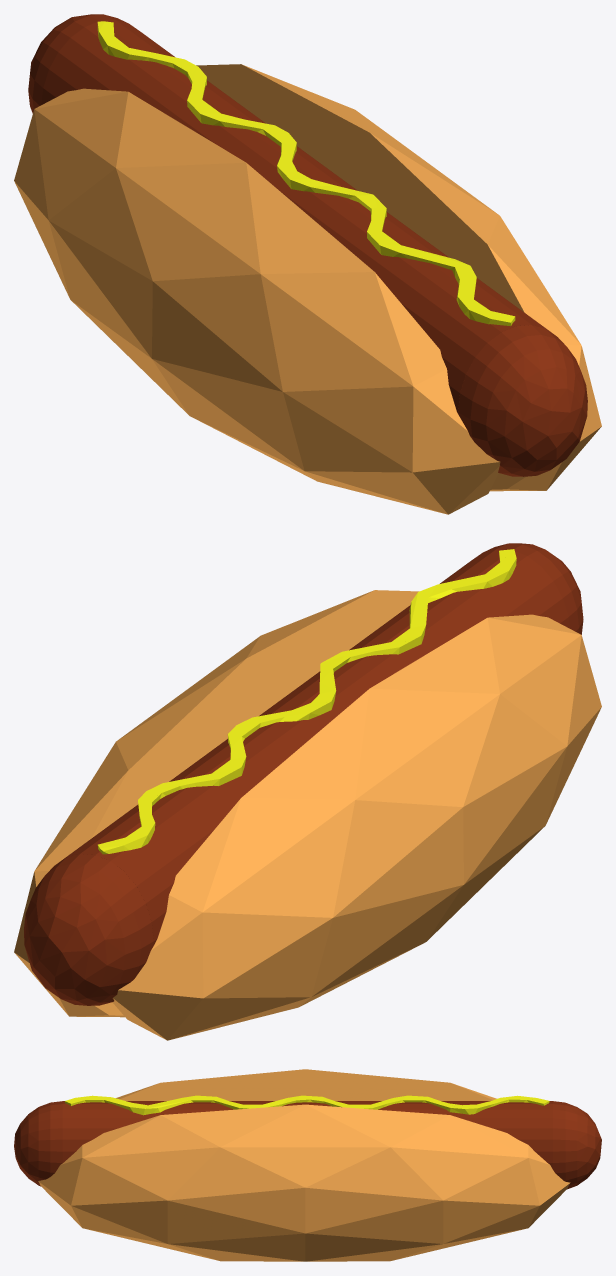
The model's file is Hot Dog 1.obj.
The picture shows the model from 3 angles, top to bottom: view 1: azimuth 30°, elevation 25°; view 2: azimuth 150°, elevation 25°; view 3: azimuth 270°, elevation 25°; orthographic projection. The views are drawn at different scales.
Visible parts, largest first — view 1: hotdog_4; view 2: hotdog_4; view 3: hotdog_4.
Part boxes in pixels (x1,y1,x2,y2): hotdog_4: (14, 14, 601, 514); hotdog_4: (14, 543, 601, 1040); hotdog_4: (14, 1069, 601, 1261).
Size of the model in its own units: 0.4538 by 0.3689 by 1.26.
